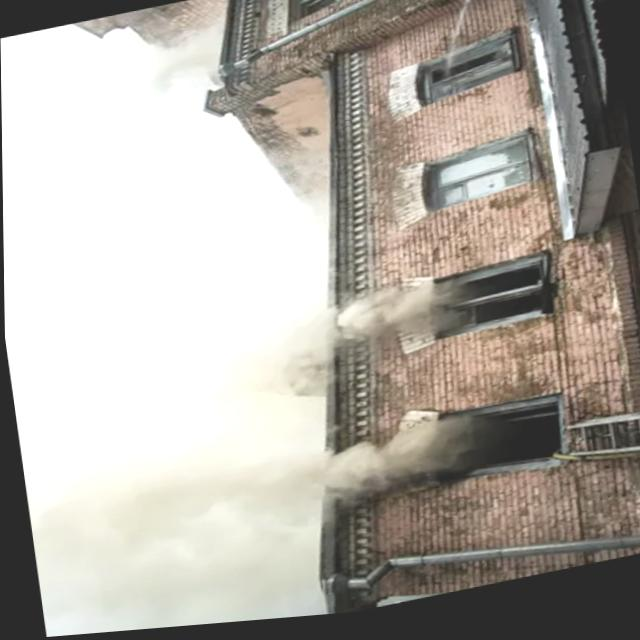Smoke: (145, 412, 485, 548), (164, 277, 468, 419), (77, 22, 240, 112)
